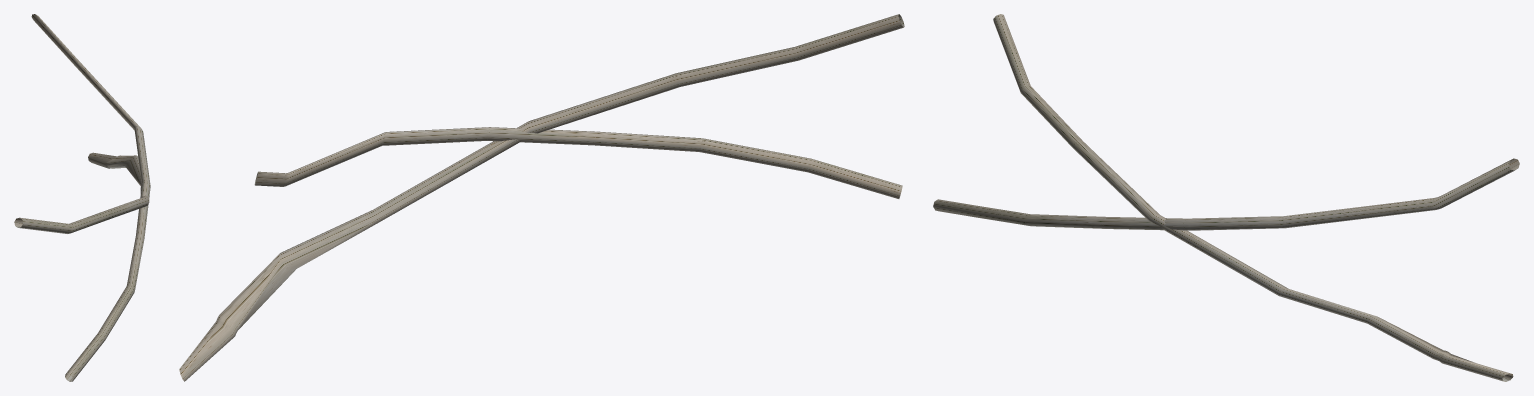
Rendered from sphere.006_lev3.glb.
3 renders of one model, left to right at view 1: azimuth 30°, elevation 25°; view 2: azimuth 150°, elevation 25°; view 3: azimuth 270°, elevation 25°, orthographic. The views are drawn at different scales.
Visible parts, largest first — view 1: sphere.006_lev3; view 2: sphere.006_lev3; view 3: sphere.006_lev3.
Part boxes in pixels (<box>): sphere.006_lev3: <box>14,14,150,381</box>; sphere.006_lev3: <box>179,14,904,381</box>; sphere.006_lev3: <box>933,14,1519,381</box>.
Bounding box in the file's own units: 0.7976 × 0.441 × 1.16.
Materials: 1 (1 with a texture image).
